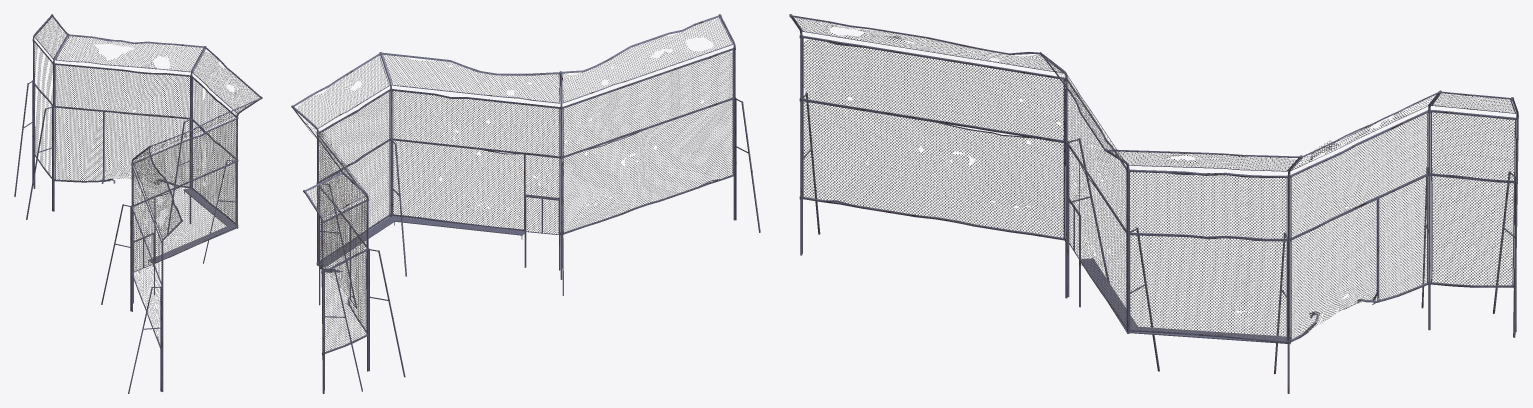
File: SM_ENV_KNFRST_WireMesh_B.FBX
3 views of the same model, side by side, from view 1: azimuth 30°, elevation 25°; view 2: azimuth 150°, elevation 25°; view 3: azimuth 270°, elevation 25° (orthographic). The views are drawn at different scales.
Parts seen in each view (by area): view 1: SM_ENV_KNFRST_WireMesh_B; view 2: SM_ENV_KNFRST_WireMesh_B; view 3: SM_ENV_KNFRST_WireMesh_B.
Boxes of the visible parts, left/top/right/bottom form: SM_ENV_KNFRST_WireMesh_B: left=14, top=14, right=262, bottom=393; SM_ENV_KNFRST_WireMesh_B: left=291, top=14, right=760, bottom=393; SM_ENV_KNFRST_WireMesh_B: left=789, top=14, right=1518, bottom=393.
Size of the model in its own units: 5259 by 3570 by 9313.
